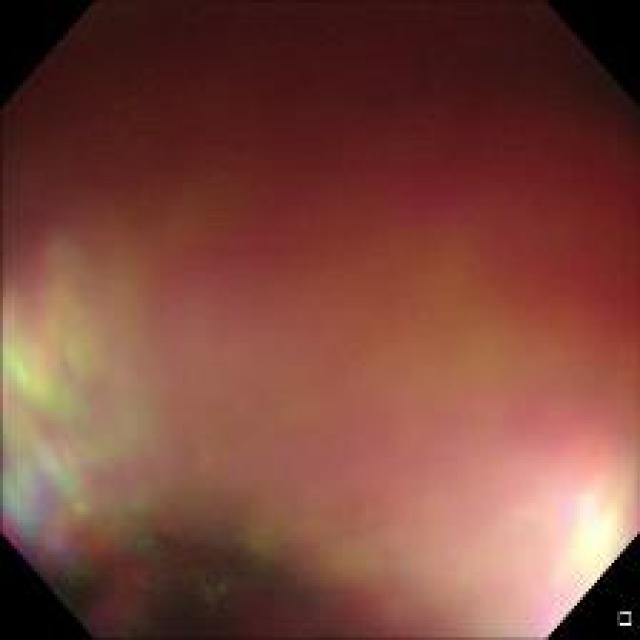color misalignment: (9, 11, 626, 625), (58, 506, 370, 619), (6, 278, 119, 565)
saturation: (565, 485, 618, 570)
